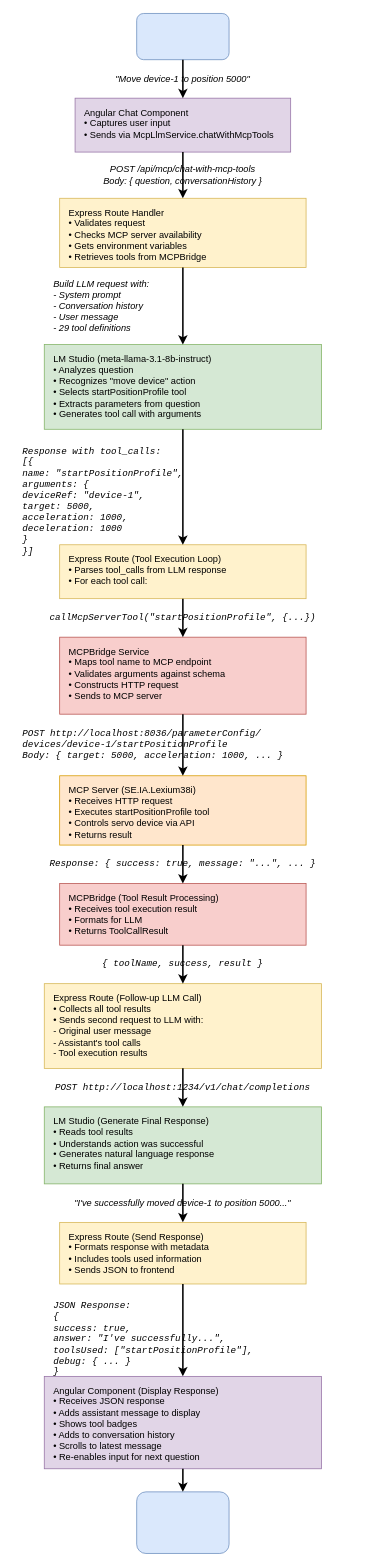
Some shapes in this 365 by 1567 pixel diagram are drawn without their labels. The centre of each missing label's shape, as x and y in pixels:
"User Asks Question" belongs at (182,36).
"User Sees Response in Chat UI" belongs at (182,1522).
